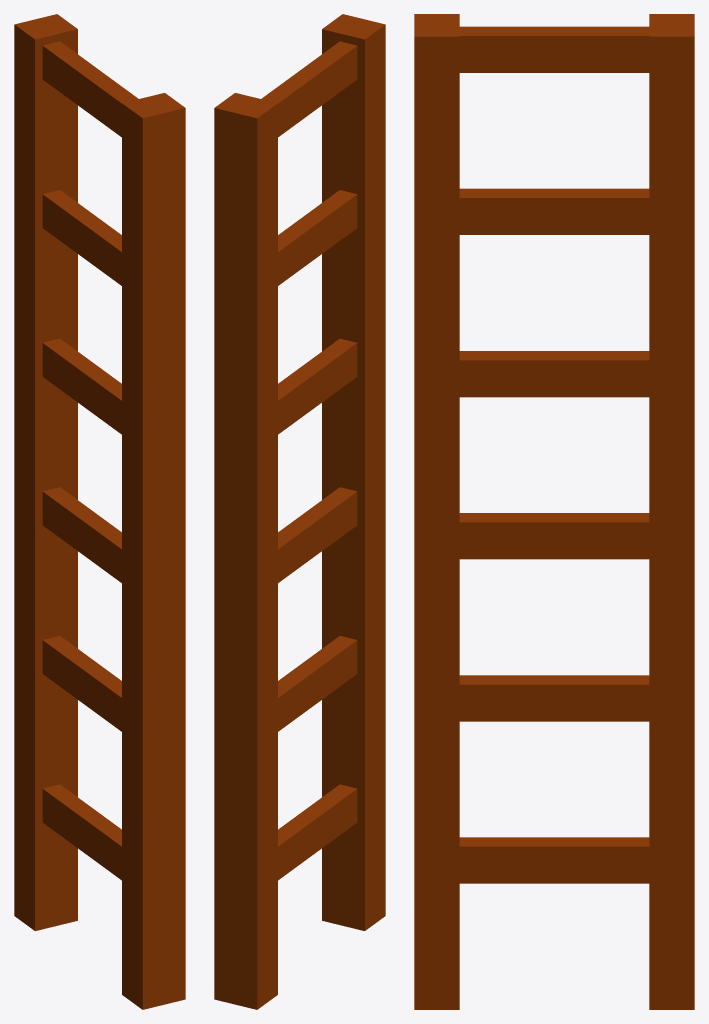
File: Prop_Ladder.FBX
The picture shows the model from 3 angles, left to right: view 1: azimuth 30°, elevation 25°; view 2: azimuth 150°, elevation 25°; view 3: azimuth 270°, elevation 25°; orthographic projection. The views are drawn at different scales.
Parts seen in each view (by area): view 1: Ladder; view 2: Ladder; view 3: Ladder.
Part boxes in pixels (x1,y1,x2,y2): Ladder: (14,14,185,1009); Ladder: (214,14,385,1009); Ladder: (414,14,694,1009).
Bounding box in the file's own units: 11.32 × 225 × 58.71.
